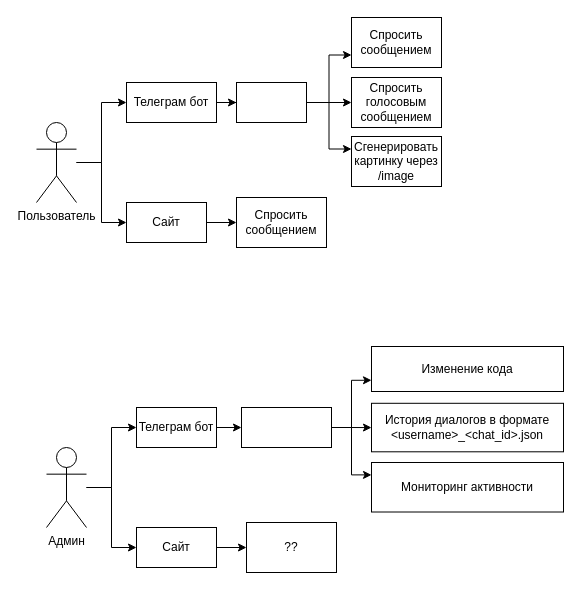
Image size: 581x590. Some labels were removed from this diagram. Here are the shapes that lost their labels. From the top down, the box of each, then its label:
(236, 82, 306, 122): /start
(240, 406, 332, 448): yandex.cloud
